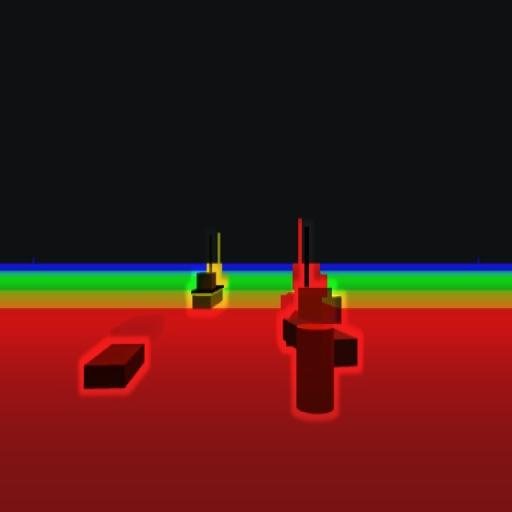vessel: (191, 242, 223, 309)
